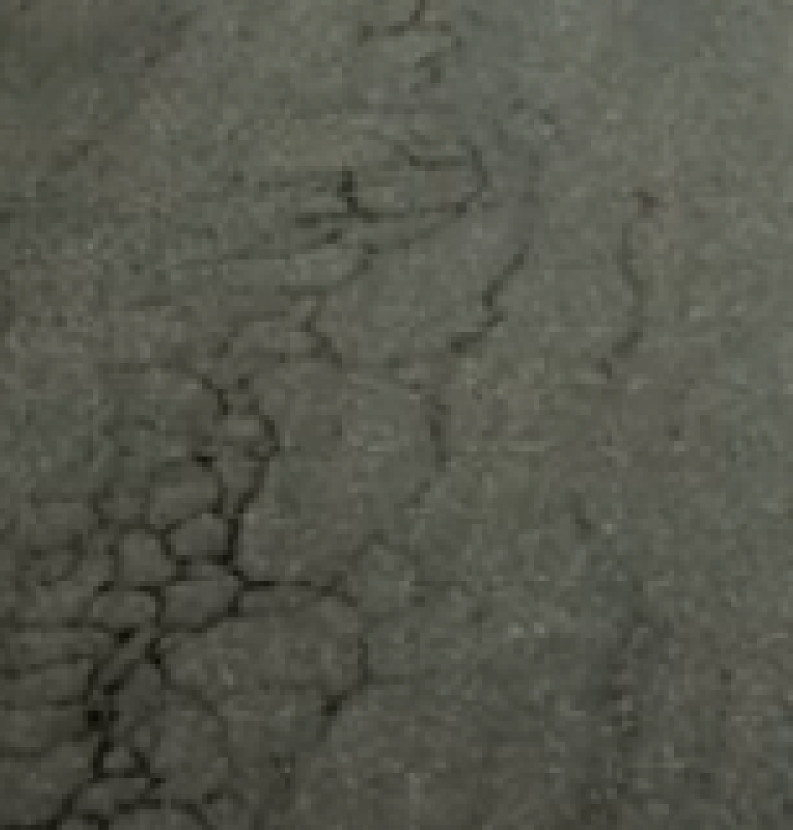Retak Buaya: (11, 340, 292, 830), (270, 62, 535, 352), (254, 321, 477, 483), (157, 202, 310, 360), (286, 533, 398, 746), (579, 595, 648, 830), (598, 169, 664, 400), (340, 3, 480, 69)
